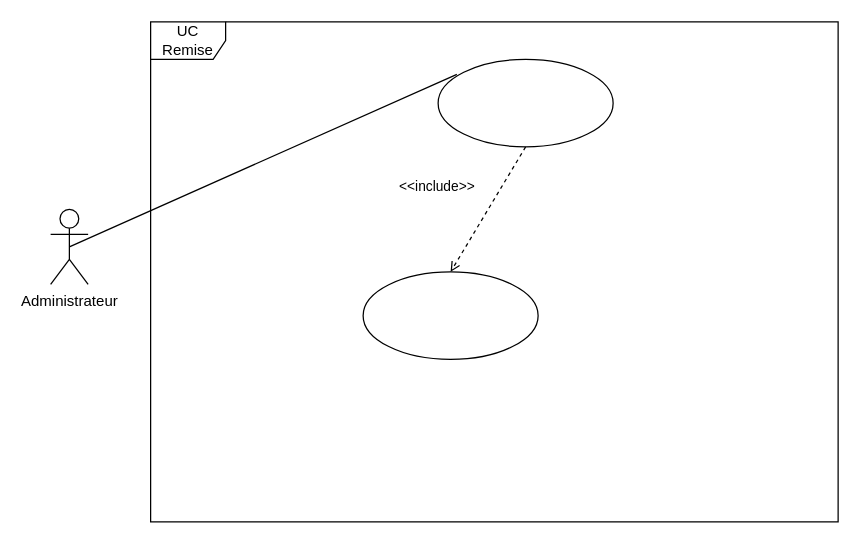
Some shapes in this 860 by 544 pixel diagram are drawn without their labels. The centre of each missing label's shape, as x and y in pixels:
Consulter les statistiques de vente: (x=450, y=315)
Effectuer une remise: (x=525, y=102)
